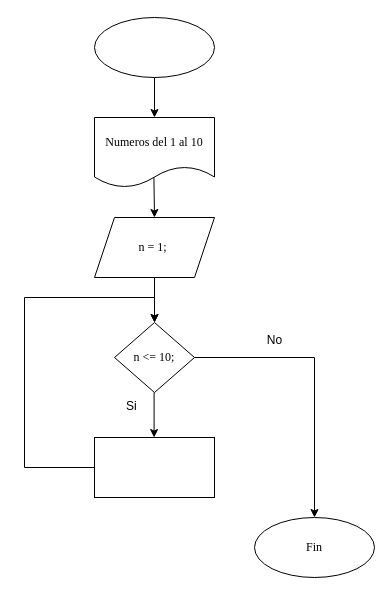
This 392x595 diagram has some shape labels left out. The shapes that lost their labels are listed below. From the top down, each one's centre as x and y in pixels, then its label:
point (154, 47): Inicio
point (154, 467): cout << n <<endl; n++;
